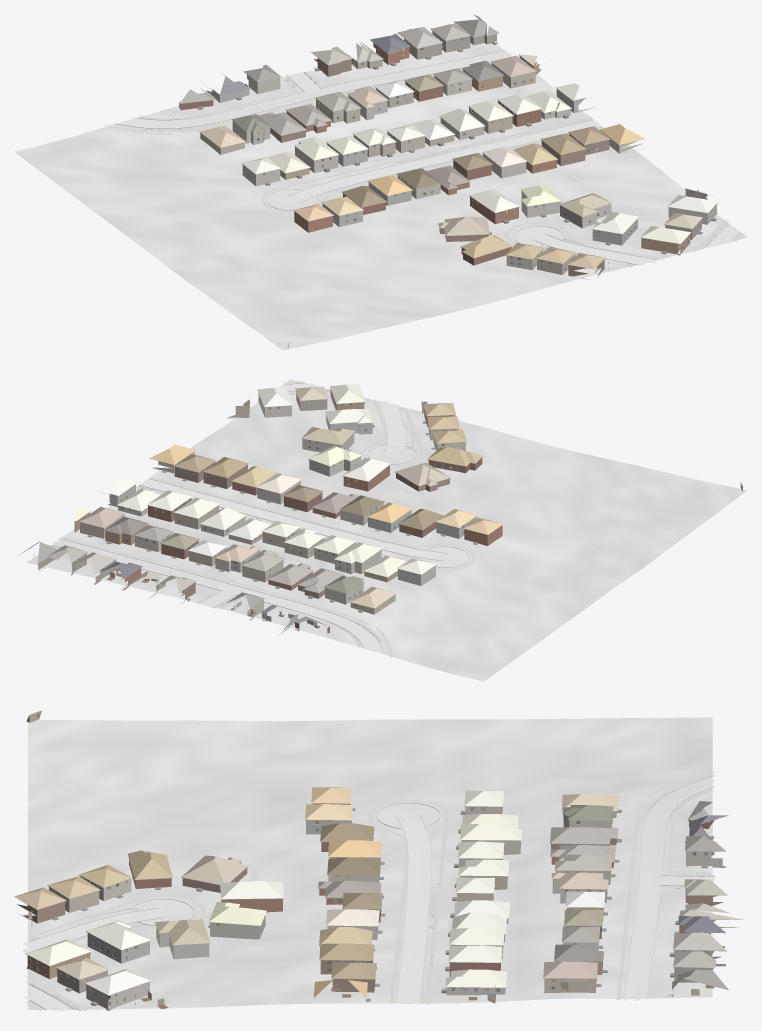
3 renders of one model, top to bottom at view 1: azimuth 30°, elevation 25°; view 2: azimuth 150°, elevation 25°; view 3: azimuth 270°, elevation 25°, orthographic. The views are drawn at different scales.
Parts seen in each view (by area): view 1: ground, roof, wall, concrete, wall_stucco, detail, walk, wall_stone, curb, glass; view 2: ground, roof, wall, concrete, wall_stucco, walk, detail, wall_stone, curb, glass; view 3: ground, roof, concrete, wall, walk, wall_stucco, detail, wall_stone, curb, room, glass.
Part boxes in pixels (x1=…): ground: x1=14, y1=42, x2=747, y2=350; roof: x1=180, y1=14, x2=718, y2=269; wall: x1=179, y1=31, x2=707, y2=348; concrete: x1=119, y1=51, x2=740, y2=265; wall_stucco: x1=200, y1=63, x2=642, y2=270; detail: x1=180, y1=29, x2=717, y2=344; walk: x1=105, y1=63, x2=745, y2=266; wall_stone: x1=242, y1=95, x2=717, y2=228; curb: x1=113, y1=50, x2=741, y2=266; glass: x1=235, y1=32, x2=706, y2=270; ground: x1=27, y1=379, x2=747, y2=681; roof: x1=18, y1=384, x2=503, y2=626; wall: x1=38, y1=389, x2=743, y2=633; concrete: x1=52, y1=383, x2=468, y2=652; wall_stucco: x1=80, y1=415, x2=476, y2=635; walk: x1=60, y1=381, x2=475, y2=657; detail: x1=48, y1=387, x2=742, y2=628; wall_stone: x1=118, y1=393, x2=435, y2=585; curb: x1=51, y1=383, x2=469, y2=654; glass: x1=73, y1=396, x2=742, y2=606; ground: x1=28, y1=717, x2=712, y2=1010; roof: x1=14, y1=787, x2=744, y2=998; concrete: x1=22, y1=778, x2=714, y2=1010; wall: x1=17, y1=710, x2=737, y2=993; walk: x1=24, y1=771, x2=717, y2=1011; wall_stucco: x1=80, y1=811, x2=725, y2=1006; detail: x1=20, y1=714, x2=726, y2=1005; wall_stone: x1=86, y1=806, x2=607, y2=1010; curb: x1=24, y1=775, x2=714, y2=1010; room: x1=68, y1=807, x2=714, y2=1009; glass: x1=30, y1=714, x2=707, y2=1001.
Size of the model in its own units: 259 by 16.75 by 268.
